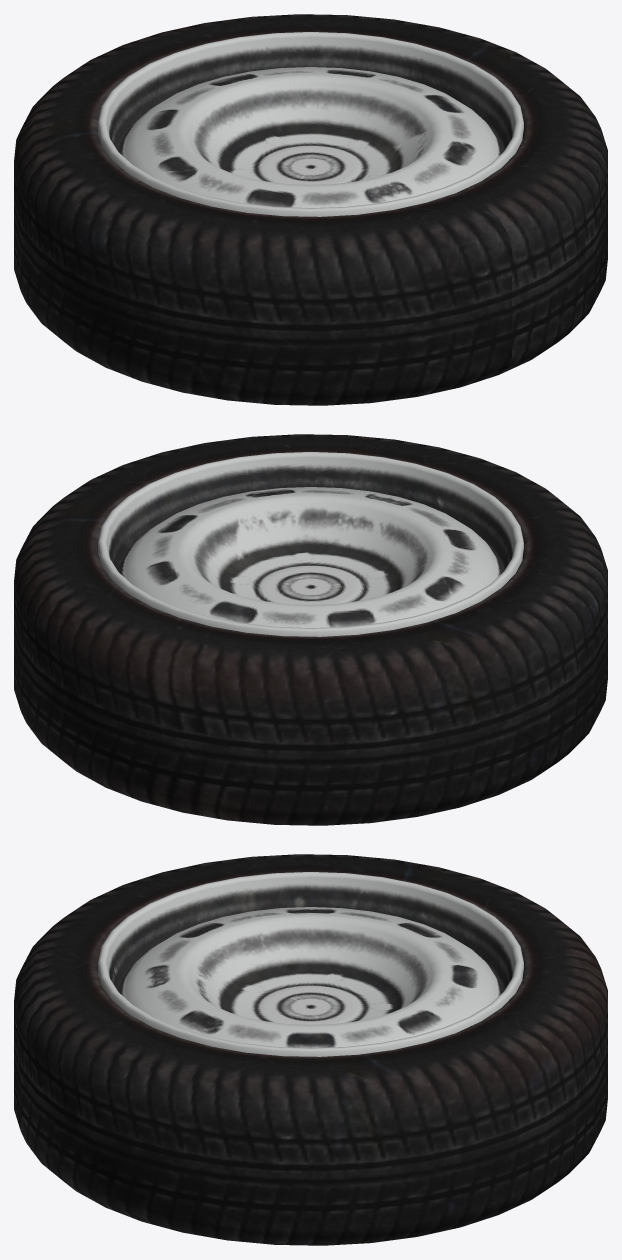
File: Prop_Wheel.fbx
3 views of the same model, one above another, from view 1: azimuth 30°, elevation 25°; view 2: azimuth 150°, elevation 25°; view 3: azimuth 270°, elevation 25° (orthographic).
Visible parts, largest first — view 1: Prop_Wheel; view 2: Prop_Wheel; view 3: Prop_Wheel.
Boxes of the visible parts, x1,y1,x2,y2 form: Prop_Wheel: [14, 14, 607, 405]; Prop_Wheel: [14, 434, 607, 825]; Prop_Wheel: [14, 854, 607, 1245].
Bounding box in the file's own units: 28.86 × 9.57 × 28.86.
